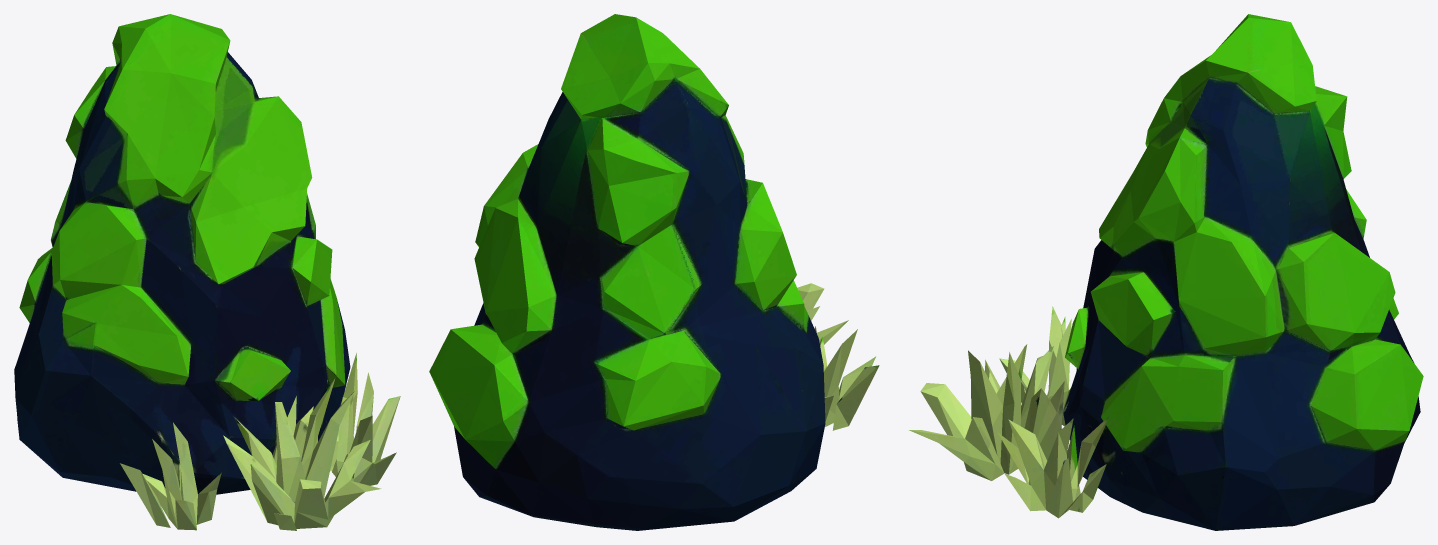
Rendered from mossy_rock_cluster.glb.
3 views of the same model, side by side, from view 1: azimuth 30°, elevation 25°; view 2: azimuth 150°, elevation 25°; view 3: azimuth 270°, elevation 25° (orthographic). The views are drawn at different scales.
Size of the model in its own units: 1.5 by 1.88 by 1.99.
1 material, 1 textured.
